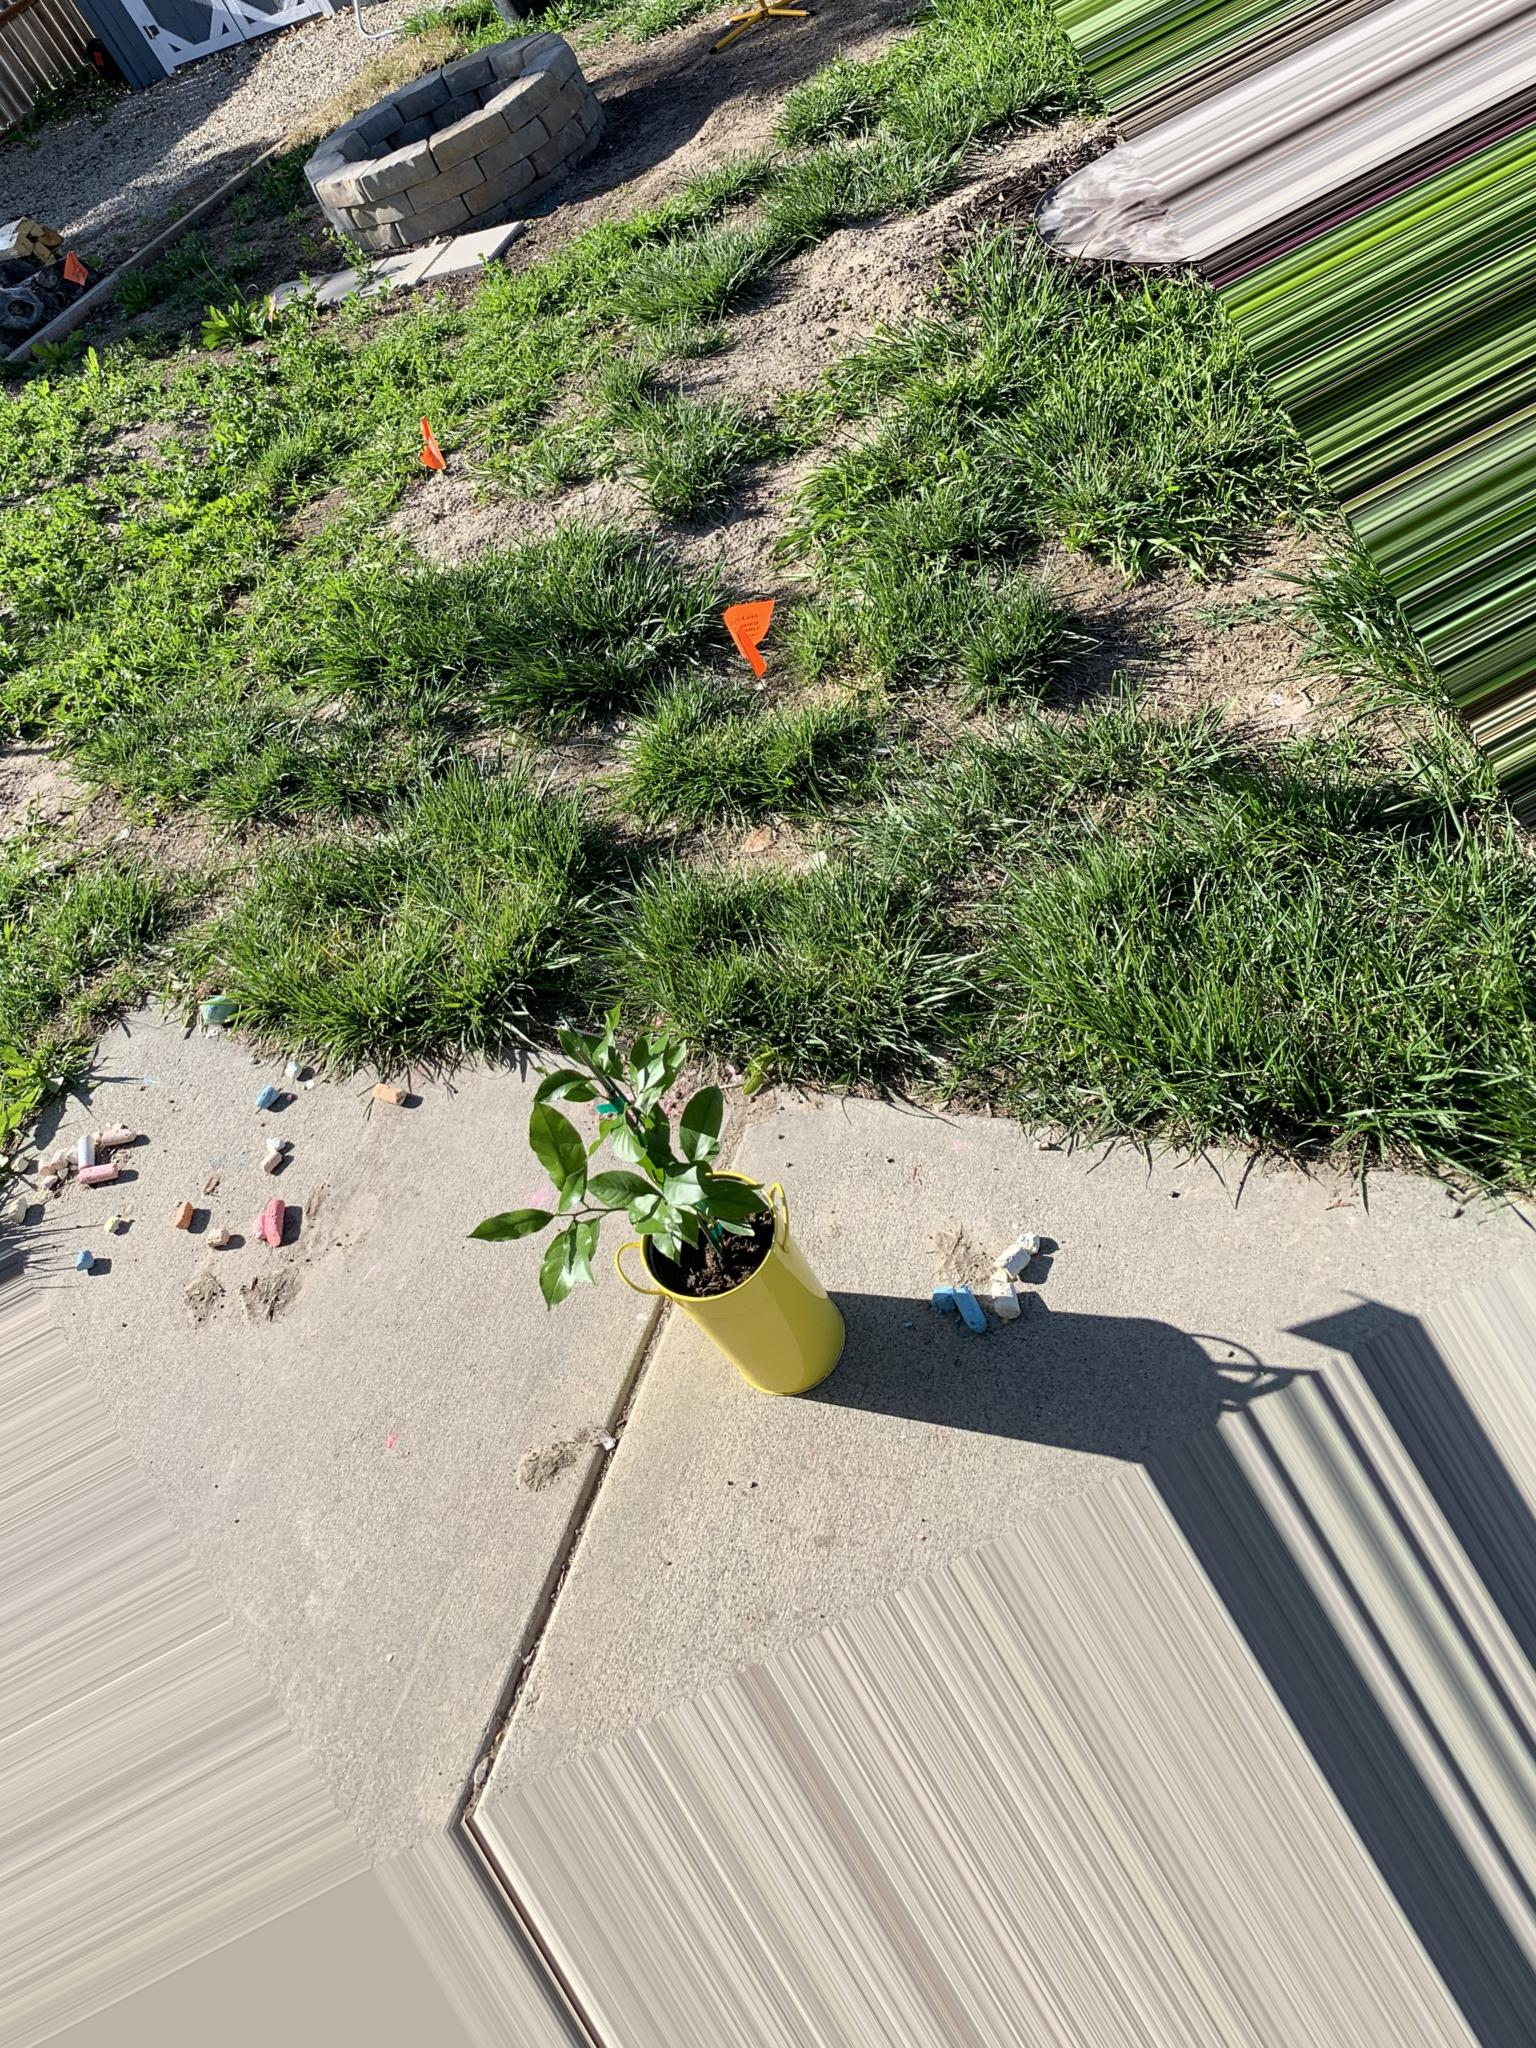patch: (1079, 547, 1396, 748), (573, 44, 774, 227), (71, 760, 316, 889), (818, 660, 999, 787), (684, 310, 939, 393), (344, 476, 699, 532), (478, 714, 647, 787), (824, 214, 941, 274)
